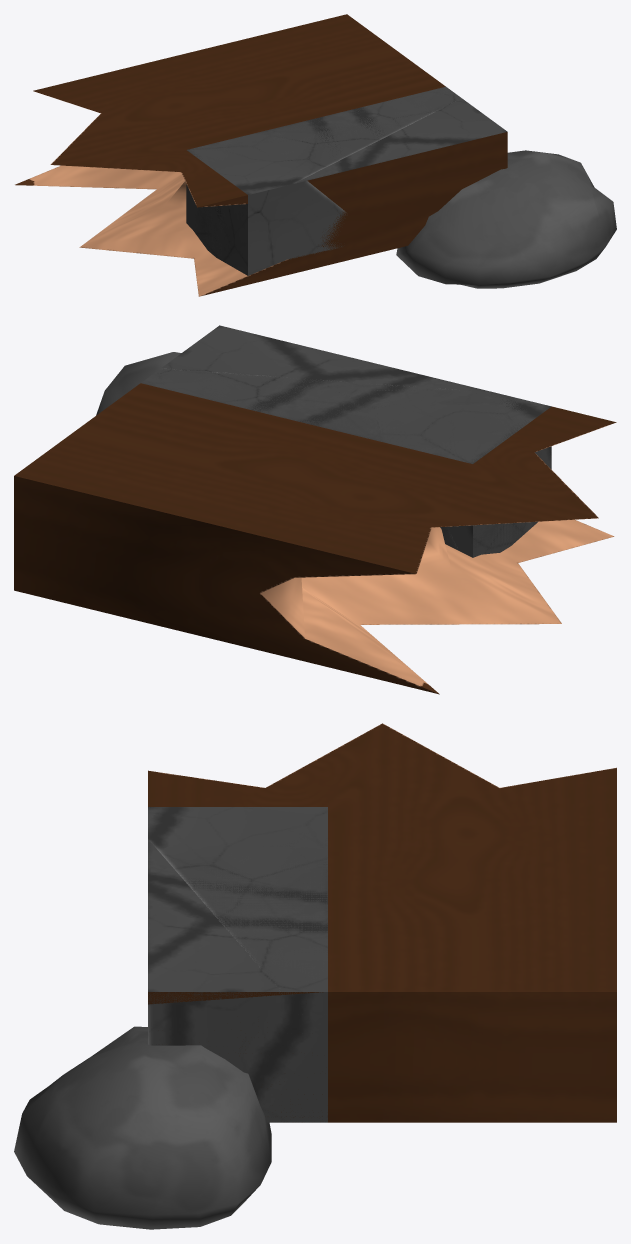
File: Debris.fbx
3 views of the same model, one above another, from view 1: azimuth 30°, elevation 25°; view 2: azimuth 150°, elevation 25°; view 3: azimuth 270°, elevation 25° (orthographic). The views are drawn at different scales.
Visible parts, largest first — view 1: wood, Rock_Low, brick, brick3, brick1; view 2: wood, brick, brick3, Rock_Low, brick1; view 3: wood, Rock_Low, brick, brick3, brick4.
Boxes of the visible parts, x1,y1,x2,y2 form: wood: [15, 14, 507, 296]; Rock_Low: [396, 150, 616, 288]; brick: [186, 87, 507, 259]; brick3: [187, 87, 457, 194]; brick1: [187, 181, 346, 275]; wood: [14, 383, 616, 694]; brick: [146, 325, 551, 556]; brick3: [141, 368, 551, 557]; Rock_Low: [96, 352, 181, 415]; brick1: [473, 451, 551, 557]; wood: [148, 723, 616, 1122]; Rock_Low: [14, 1026, 271, 1229]; brick: [148, 807, 327, 991]; brick3: [148, 807, 327, 991]; brick4: [148, 992, 327, 1122].
Bounding box in the file's own units: 0.4252 × 0.1079 × 0.3232.
1 material, 1 textured.
